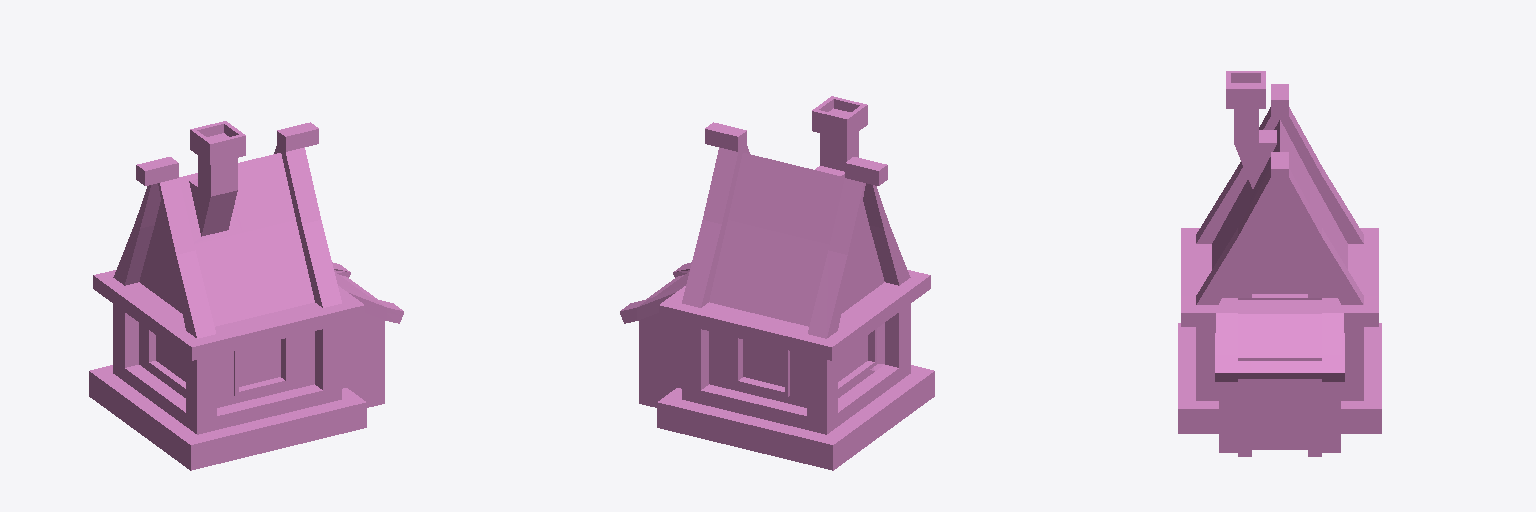
The model's file is House.obj.
The picture shows the model from 3 angles: view 1: azimuth 30°, elevation 25°; view 2: azimuth 150°, elevation 25°; view 3: azimuth 270°, elevation 25°; orthographic projection.
Parts seen in each view (by area): view 1: House; view 2: House; view 3: House.
Boxes of the visible parts, x1=… form: House: x1=89, y1=121, x2=403, y2=470; House: x1=620, y1=96, x2=934, y2=470; House: x1=1178, y1=71, x2=1381, y2=456.
Bounding box in the file's own units: 0.946 × 1.16 × 0.7171.